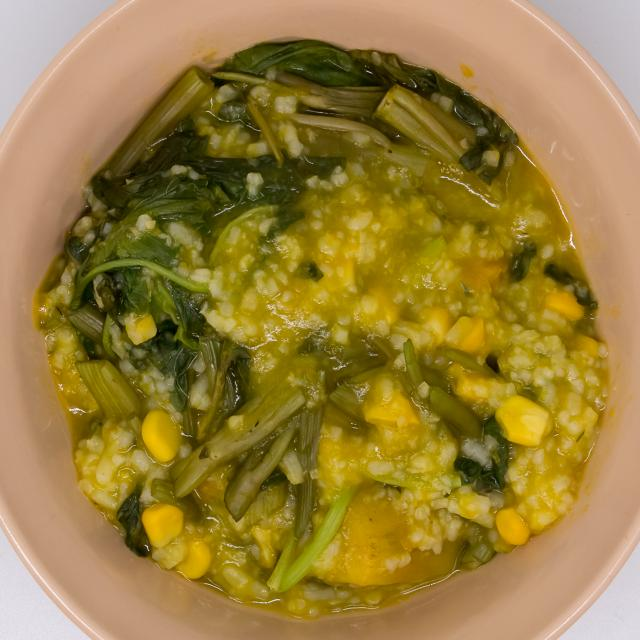Bubur-Manado: (39, 29, 620, 623)
